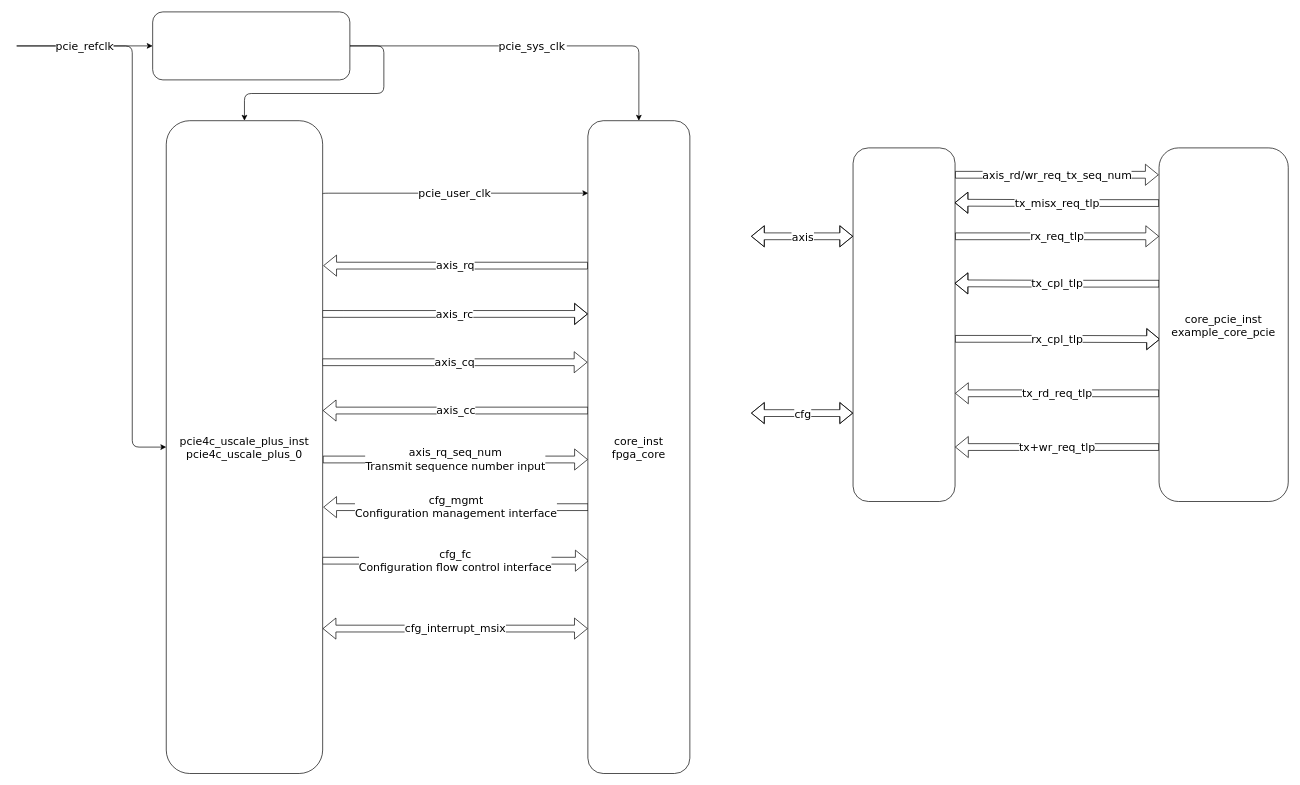
This 1300x785 diagram has some shape labels left out. The shapes that lost their labels are listed below. From the top down, each one's centre as x and y in pixels, then its label:
pixel 251 45: ibufds_gte4_pcie_mgt_refclk_inst IBUFDS_GTE4
pixel 903 324: pcie_us_if_inst pcie_us_if
